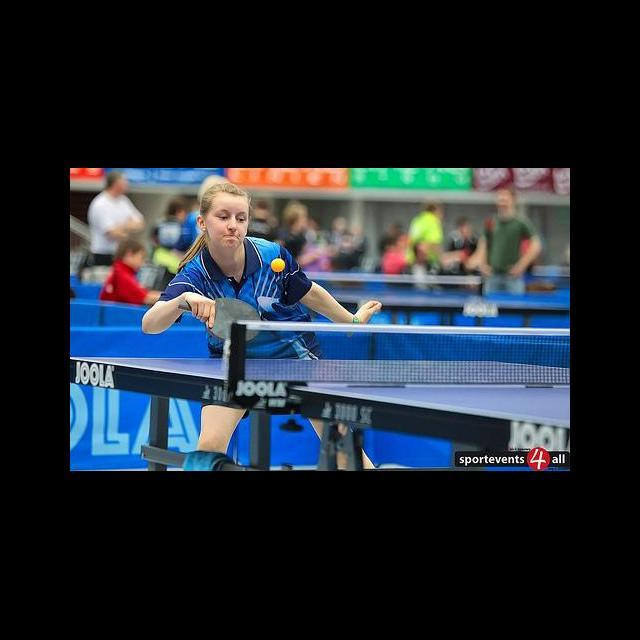ping-pong-ball: (271, 258, 285, 272)
